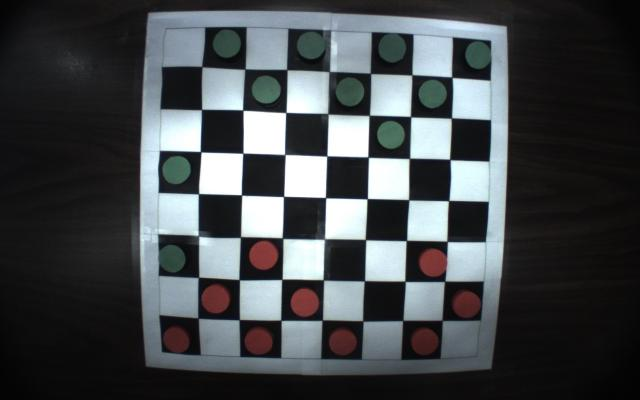g: (250, 74, 286, 108), (333, 75, 367, 110), (210, 27, 244, 61), (374, 117, 408, 151), (160, 152, 193, 187), (155, 242, 189, 275), (294, 29, 328, 62), (415, 77, 449, 110), (462, 38, 494, 73), (377, 30, 408, 66)
r: (408, 324, 443, 359), (288, 284, 322, 320), (247, 239, 281, 274), (450, 287, 483, 323), (416, 244, 449, 279), (200, 280, 232, 316), (242, 326, 276, 359), (325, 326, 359, 359), (160, 324, 192, 357)
